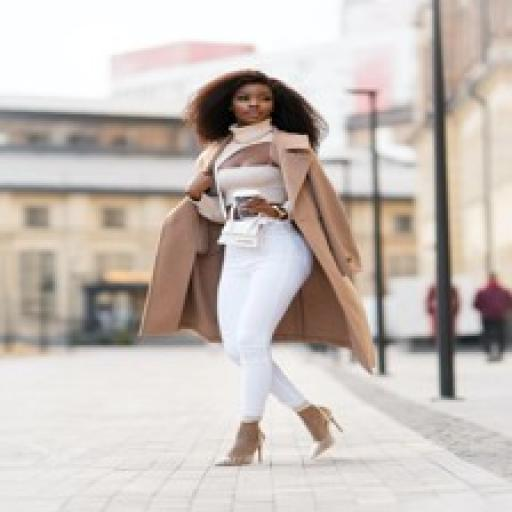human: (123, 60, 378, 465)
